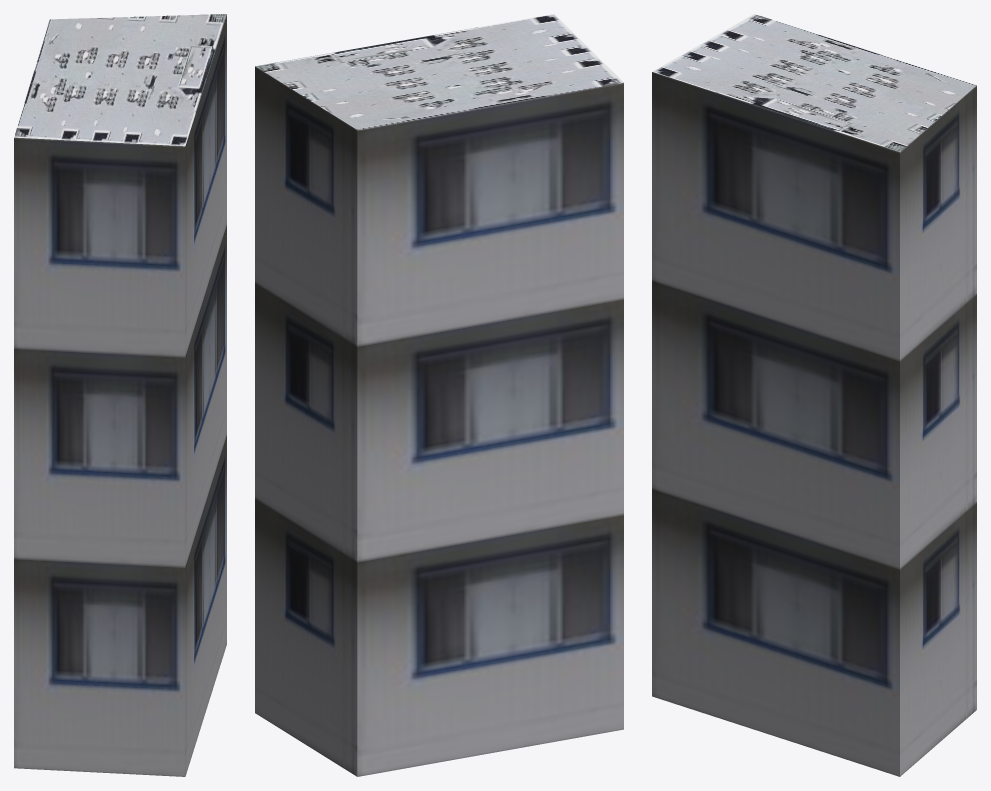
The model's file is ResTex__2168.fbx.
3 renders of one model, left to right at view 1: azimuth 30°, elevation 25°; view 2: azimuth 150°, elevation 25°; view 3: azimuth 270°, elevation 25°, orthographic. The views are drawn at different scales.
Parts seen in each view (by area): view 1: CityEngineMaterial_9_m, CityEngineMaterial_4_m; view 2: CityEngineMaterial_9_m, CityEngineMaterial_4_m; view 3: CityEngineMaterial_9_m, CityEngineMaterial_4_m.
Boxes of the visible parts, x1=… form: CityEngineMaterial_9_m: x1=14, y1=14, x2=226, y2=776; CityEngineMaterial_4_m: x1=14, y1=14, x2=226, y2=146; CityEngineMaterial_9_m: x1=255, y1=66, x2=623, y2=776; CityEngineMaterial_4_m: x1=255, y1=14, x2=623, y2=129; CityEngineMaterial_9_m: x1=652, y1=72, x2=976, y2=776; CityEngineMaterial_4_m: x1=652, y1=14, x2=976, y2=152.
Size of the model in its own units: 4.27 by 9 by 4.24.
Materials: 2 (2 with a texture image).
